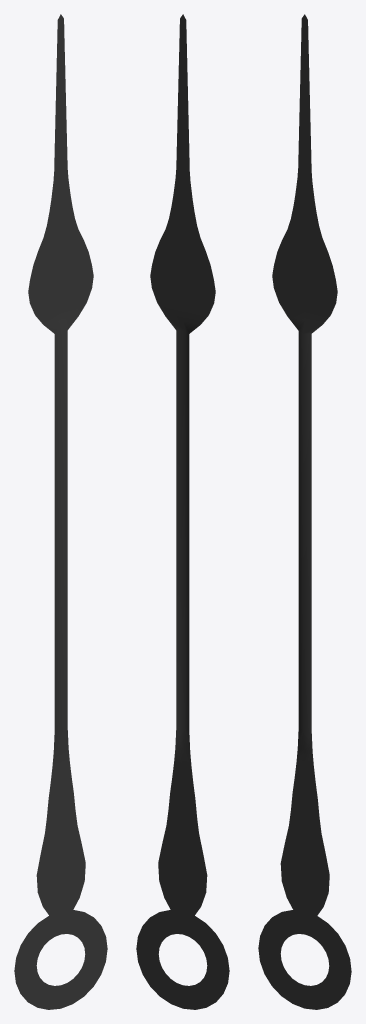
Rendered from minute_hand.gltf.
The picture shows the model from 3 angles, left to right: view 1: azimuth 30°, elevation 25°; view 2: azimuth 150°, elevation 25°; view 3: azimuth 330°, elevation 25°; orthographic projection.
Visible parts, largest first — view 1: minute; view 2: minute; view 3: minute.
Part boxes in pixels (<box>): minute: <box>14,14,107,1009</box>; minute: <box>136,14,229,1009</box>; minute: <box>258,14,351,1009</box>.
Size of the model in its own units: 0.0162 by 0.1646 by 0.000732.
Materials: 1 (1 with a texture image).
